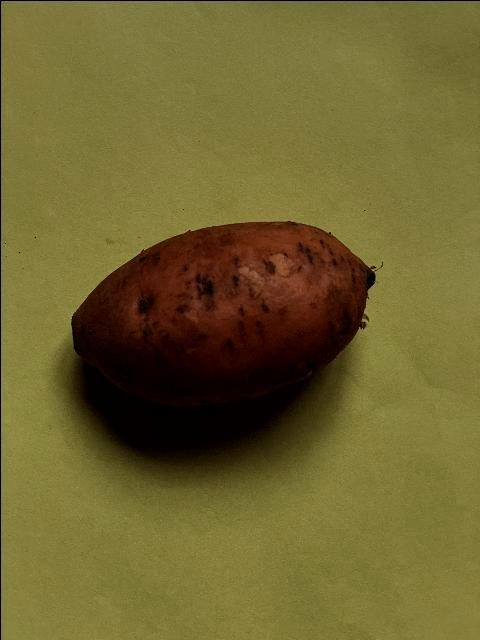sweetpotato: (66, 216, 376, 408)
